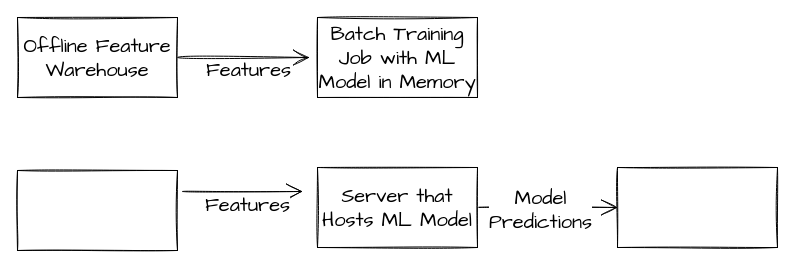
Image size: 795x268. Some labels were removed from this diagram. The centre of each missing label's shape, as x and y in pixels:
"Client" goes at (x=697, y=207).
"Online Feature Datastore" goes at (x=97, y=210).
